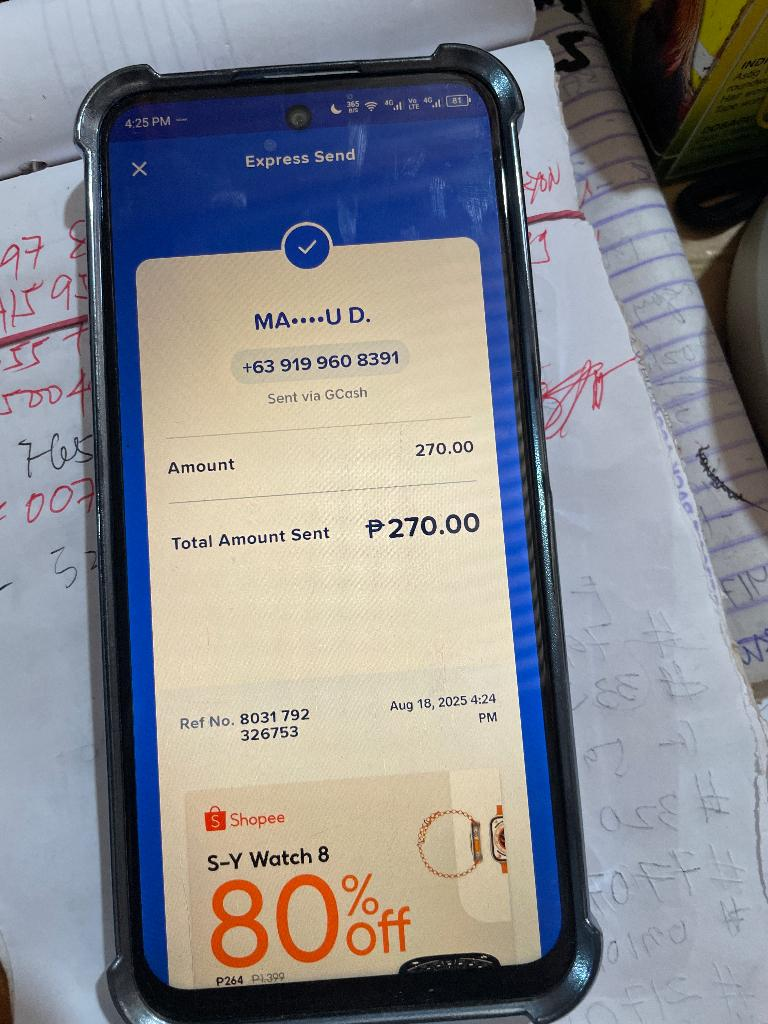Receipt: (107, 118, 559, 984)
